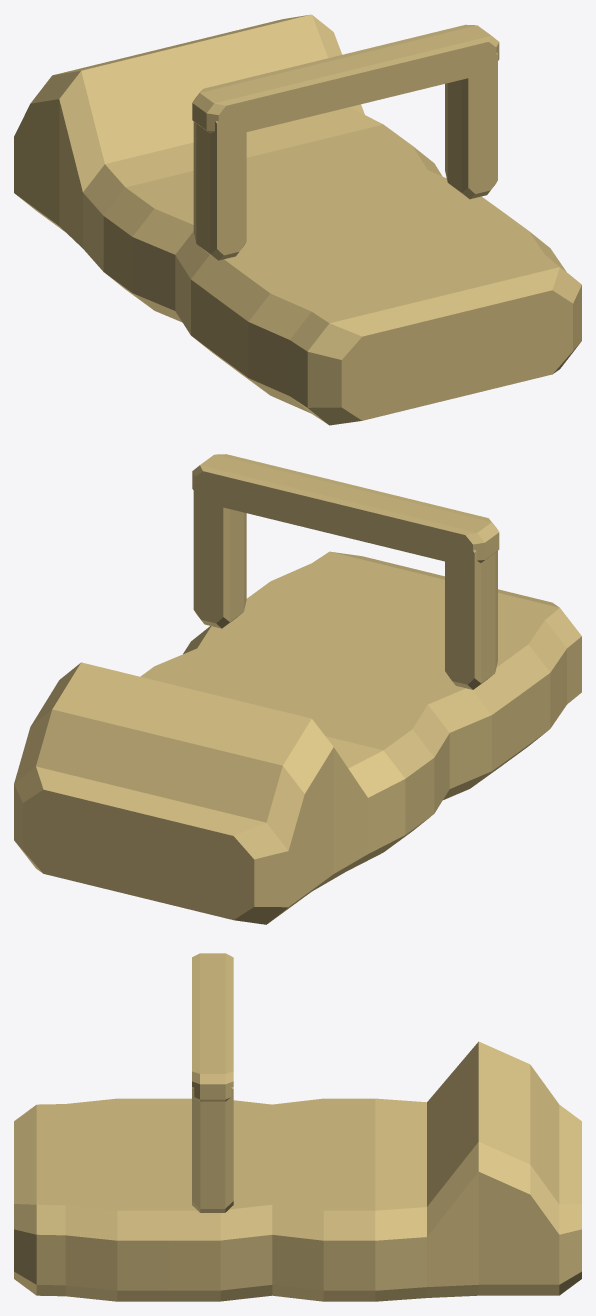
Rendered from tallow_oddball_a.glb.
3 renders of one model, top to bottom at view 1: azimuth 30°, elevation 25°; view 2: azimuth 150°, elevation 25°; view 3: azimuth 270°, elevation 25°, orthographic. The views are drawn at different scales.
Visible parts, largest first — view 1: tallow_oddball_a; view 2: tallow_oddball_a; view 3: tallow_oddball_a.
Boxes of the visible parts, bbox=[...] form: tallow_oddball_a: bbox=[14, 14, 581, 425]; tallow_oddball_a: bbox=[14, 454, 581, 924]; tallow_oddball_a: bbox=[14, 953, 581, 1301].
Bounding box in the file's own units: 4.1 × 3.38 × 7.5.
